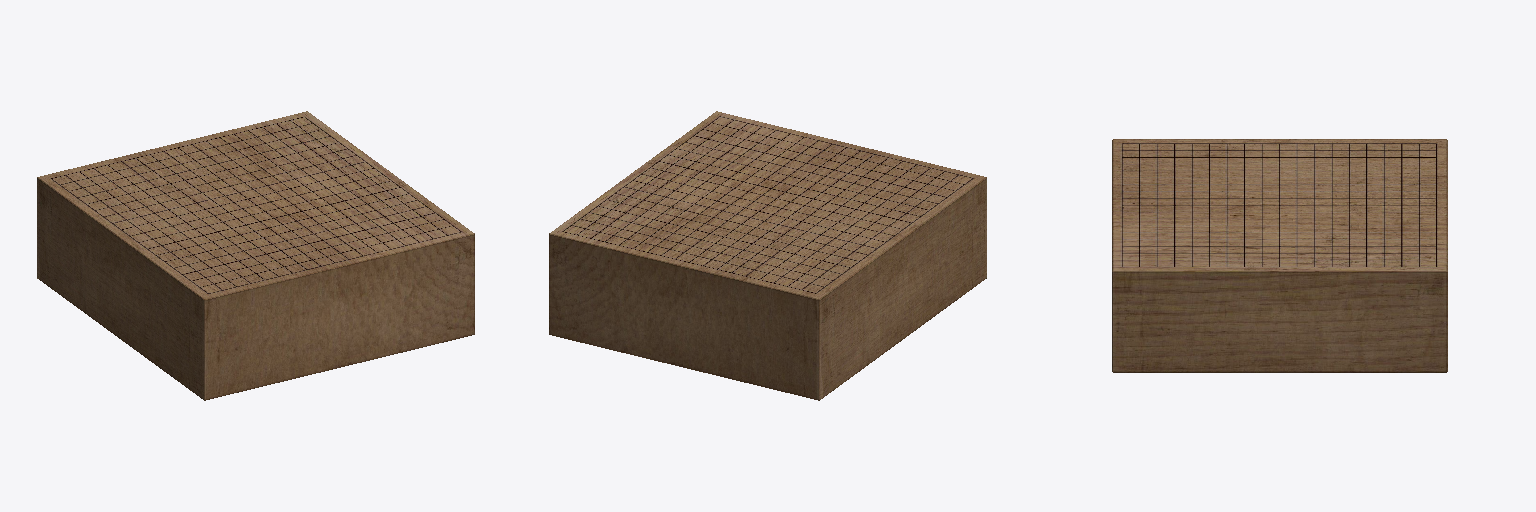
The picture shows the model from 3 angles: view 1: azimuth 30°, elevation 25°; view 2: azimuth 150°, elevation 25°; view 3: azimuth 270°, elevation 25°; orthographic projection.
Parts seen in each view (by area): view 1: go_board_19_Mesh.016; view 2: go_board_19_Mesh.016; view 3: go_board_19_Mesh.016.
Boxes of the visible parts, box(x1,y1,x2,y2) form: go_board_19_Mesh.016: box(37, 111, 474, 400); go_board_19_Mesh.016: box(549, 111, 986, 400); go_board_19_Mesh.016: box(1112, 139, 1447, 372).
Size of the model in its own units: 0.4242 by 0.1518 by 0.4545.
1 materials, 1 textured.